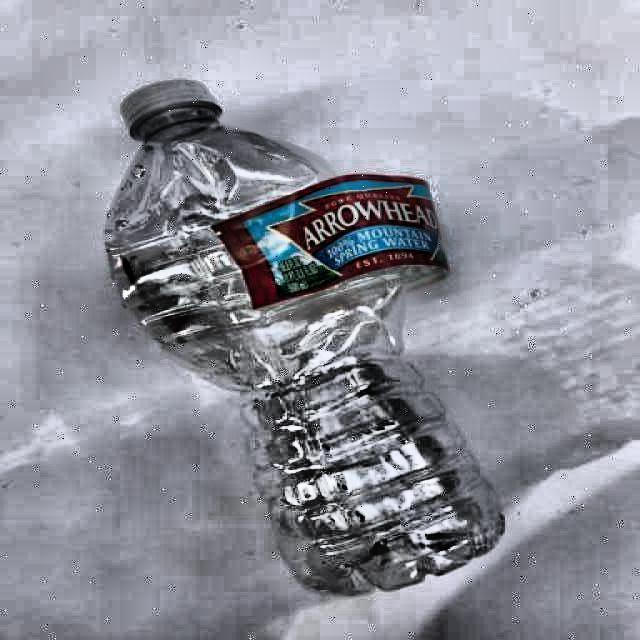plastic: (105, 81, 504, 593)
